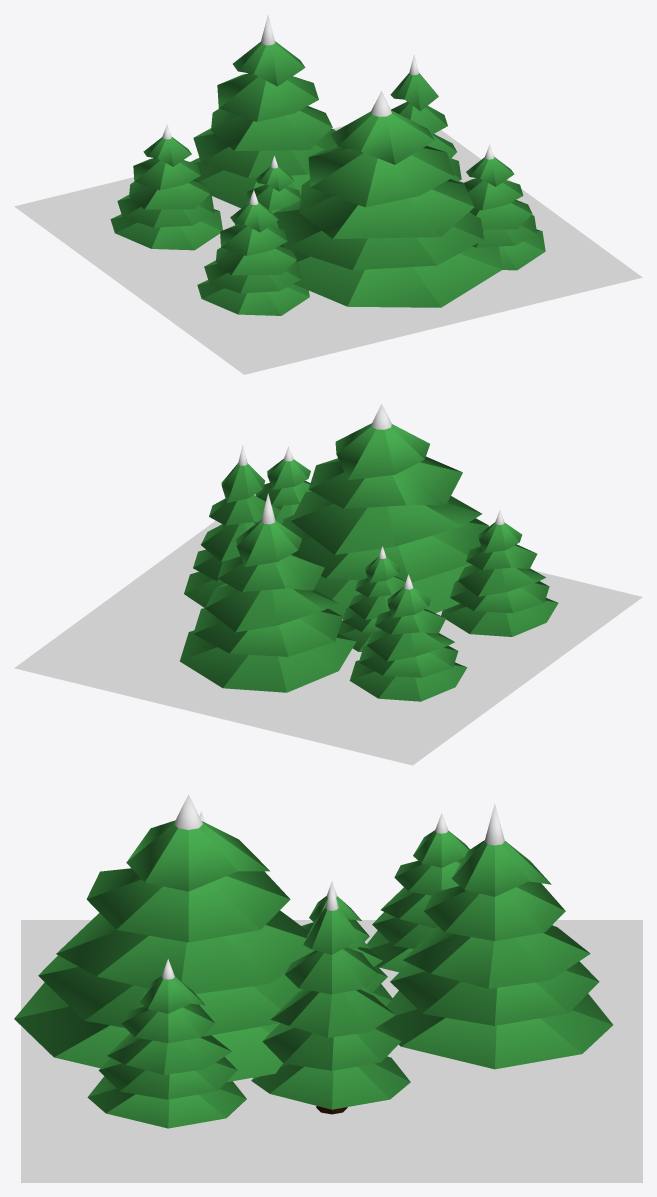
File: tree_scene.fbx
3 renders of one model, top to bottom at view 1: azimuth 30°, elevation 25°; view 2: azimuth 150°, elevation 25°; view 3: azimuth 270°, elevation 25°, orthographic. The views are drawn at different scales.
Visible parts, largest first — view 1: pPlane1, tree_MSH6, tree_MSH2, tree_MSH3, tree_MSH, tree_MSH5, tree_MSH1, tree_MSH4; view 2: pPlane1, tree_MSH6, tree_MSH2, tree_MSH3, tree_MSH, tree_MSH1, tree_MSH4, tree_MSH5; view 3: pPlane1, tree_MSH6, tree_MSH2, tree_MSH1, tree_MSH5, tree_MSH3, tree_MSH4.
Boxes of the visible parts, <box> form: pPlane1: <box>14,125,642,374</box>; tree_MSH6: <box>274,91,502,307</box>; tree_MSH2: <box>190,14,335,208</box>; tree_MSH3: <box>110,124,222,250</box>; tree_MSH: <box>197,190,309,315</box>; tree_MSH5: <box>462,144,545,270</box>; tree_MSH1: <box>390,54,462,183</box>; tree_MSH4: <box>234,155,300,228</box>; pPlane1: <box>14,520,642,765</box>; tree_MSH6: <box>282,404,488,618</box>; tree_MSH2: <box>179,493,356,692</box>; tree_MSH3: <box>349,574,467,701</box>; tree_MSH: <box>441,510,558,636</box>; tree_MSH1: <box>184,445,280,607</box>; tree_MSH4: <box>338,546,412,651</box>; tree_MSH5: <box>255,446,310,524</box>; pPlane1: <box>21,920,642,1182</box>; tree_MSH6: <box>14,794,314,1082</box>; tree_MSH2: <box>384,803,612,1069</box>; tree_MSH1: <box>251,883,410,1114</box>; tree_MSH5: <box>87,959,246,1128</box>; tree_MSH3: <box>366,813,469,972</box>; tree_MSH4: <box>301,881,392,1006</box>.
Bounding box in the file's own units: 200 × 91.93 × 202.
